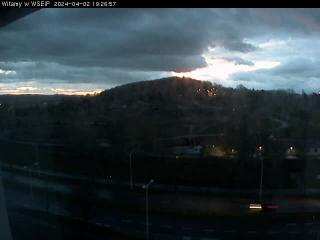car: (247, 199, 278, 213)
